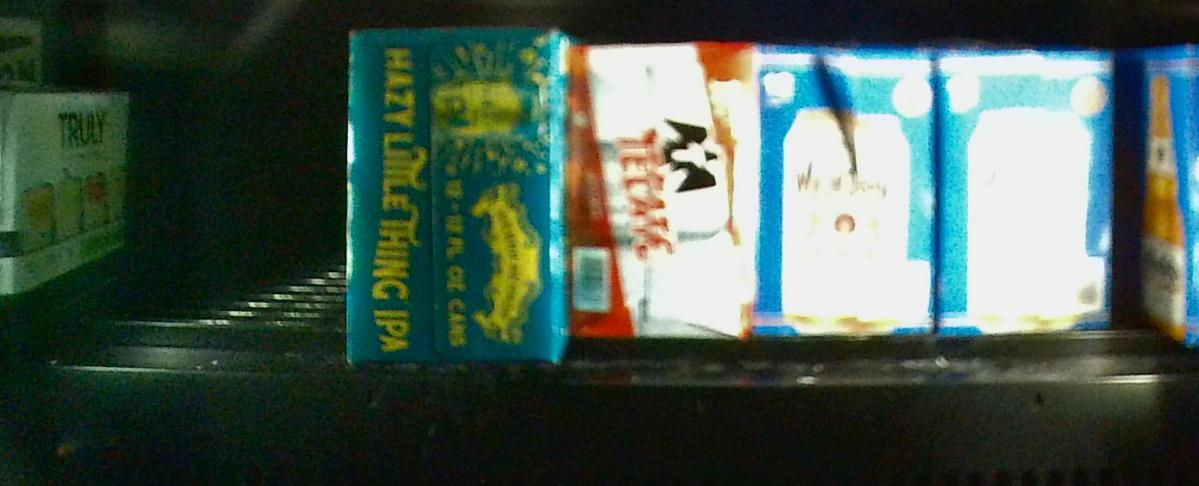bottle: (345, 28, 558, 367), (565, 37, 756, 344), (755, 43, 936, 338), (936, 46, 1114, 338), (1114, 51, 1197, 353)
